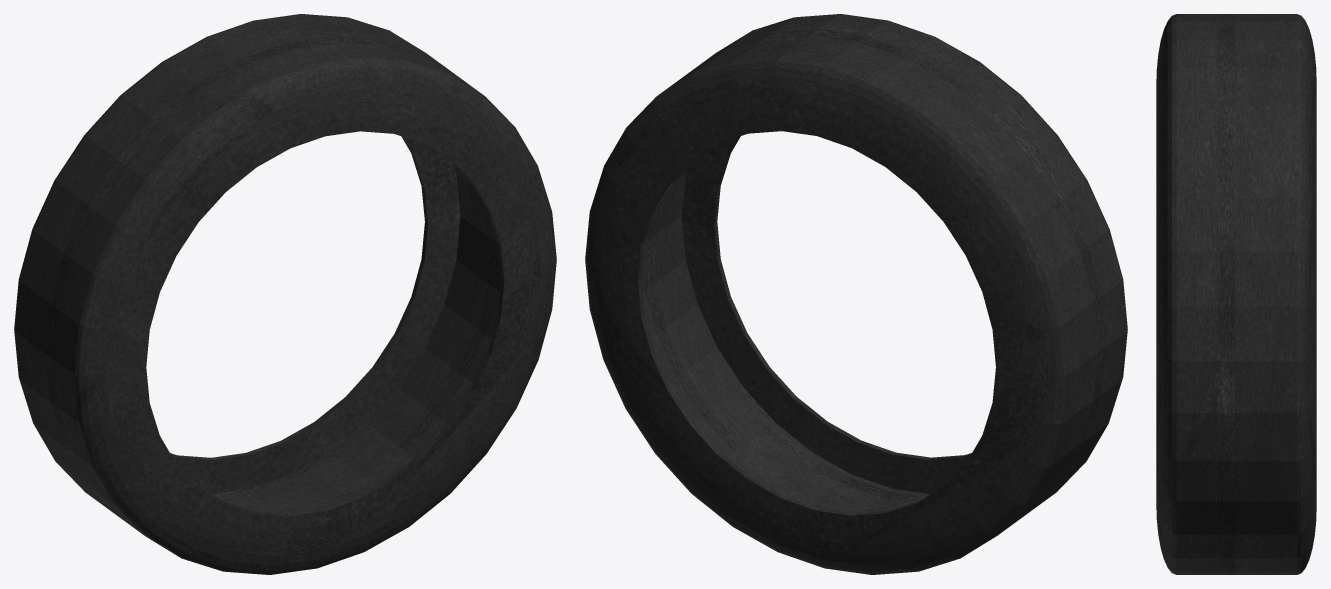
File: Opona.glb
3 views of the same model, side by side, from view 1: azimuth 30°, elevation 25°; view 2: azimuth 150°, elevation 25°; view 3: azimuth 270°, elevation 25° (orthographic).
Visible parts, largest first — view 1: Cylinder; view 2: Cylinder; view 3: Cylinder.
Part boxes in pixels (x1=…): Cylinder: x1=14, y1=14, x2=556, y2=574; Cylinder: x1=585, y1=14, x2=1127, y2=574; Cylinder: x1=1156, y1=14, x2=1316, y2=574.
Bounding box in the file's own units: 4.61 × 4.61 × 1.32.
1 material, 1 textured.
